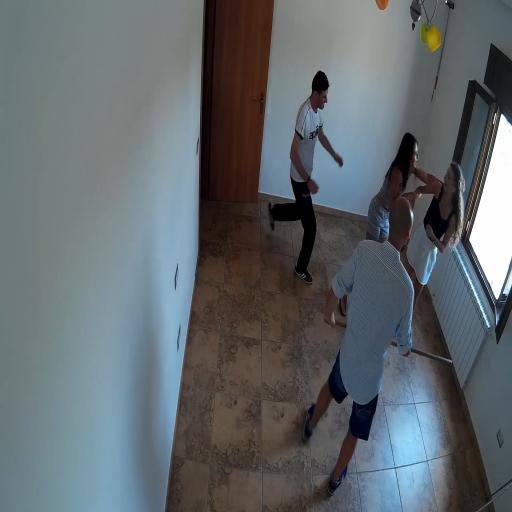violencia: (347, 107, 470, 373)
